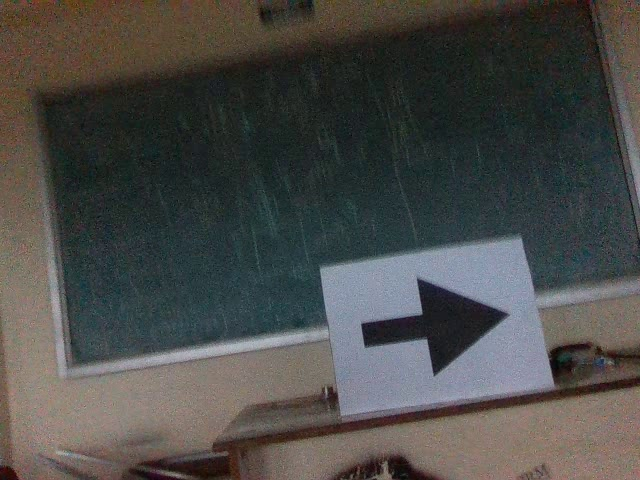Right: (350, 268, 515, 377)
